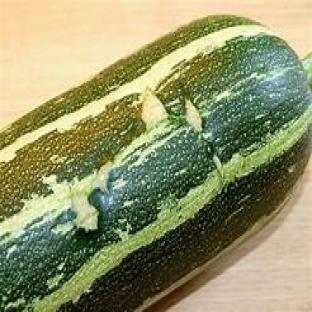Zucchini: (0, 16, 311, 311)
